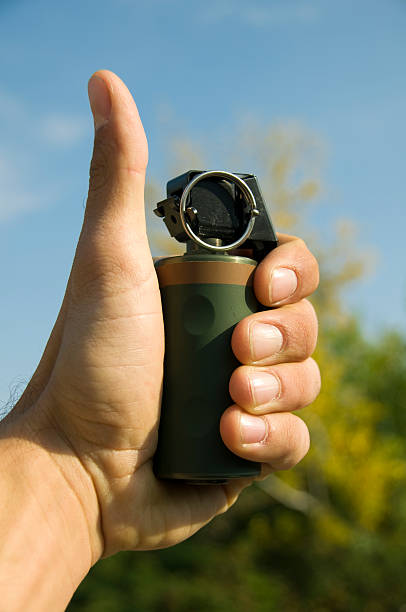e1: (162, 162, 288, 490)
